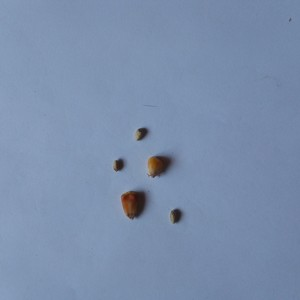maiz: (117, 189, 146, 222), (145, 153, 168, 179)
trigo: (169, 208, 185, 227), (132, 124, 147, 141), (111, 157, 125, 174)
